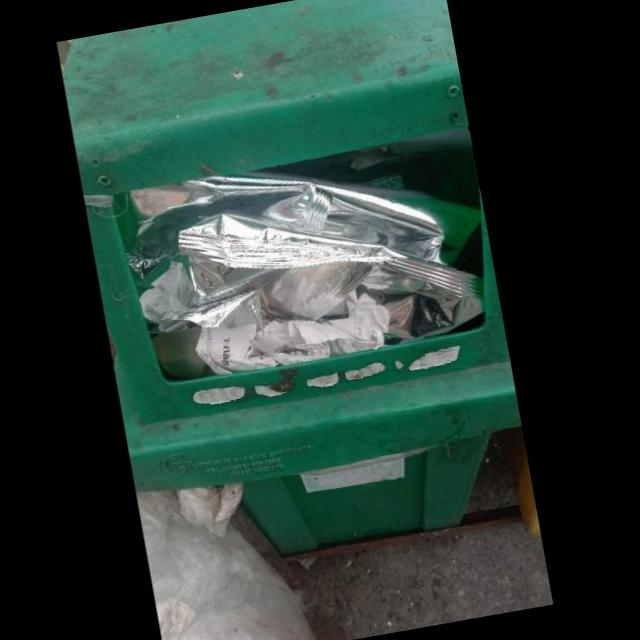bao_bi_thuc_pham: (127, 176, 483, 340)
giay: (195, 292, 391, 374)
